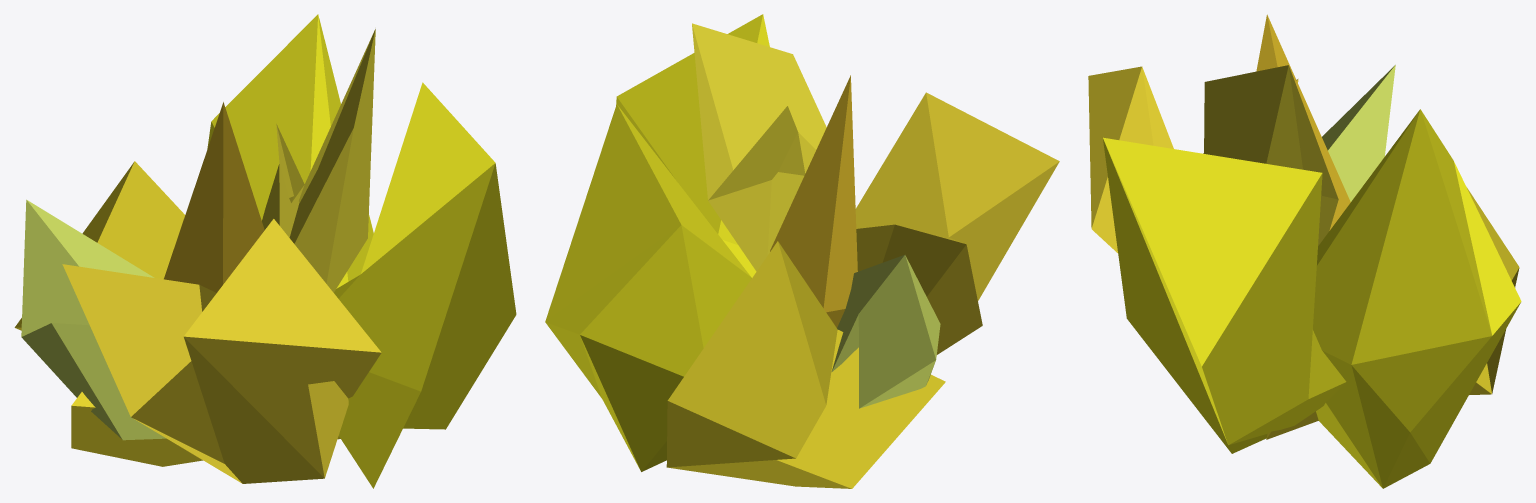
Rendered from flames.gltf.
3 renders of one model, left to right at view 1: azimuth 30°, elevation 25°; view 2: azimuth 150°, elevation 25°; view 3: azimuth 270°, elevation 25°, orthographic. The views are drawn at different scales.
Parts seen in each view (by area): view 1: Cube; view 2: Cube; view 3: Cube.
Boxes of the visible parts, bbox=[...] form: Cube: bbox=[14, 14, 516, 488]; Cube: bbox=[545, 14, 1059, 488]; Cube: bbox=[1088, 14, 1521, 488].
Bounding box in the file's own units: 3.59 × 3.8 × 3.54.
